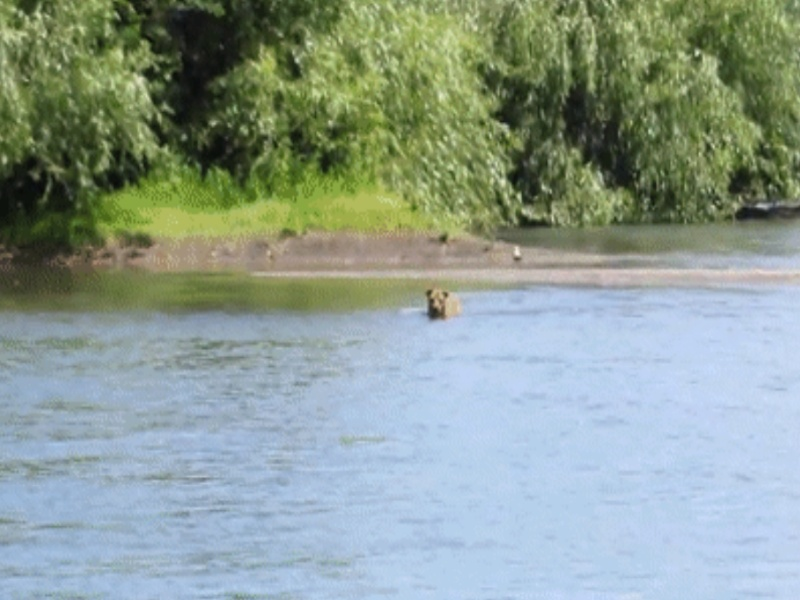dog: (423, 283, 461, 323)
